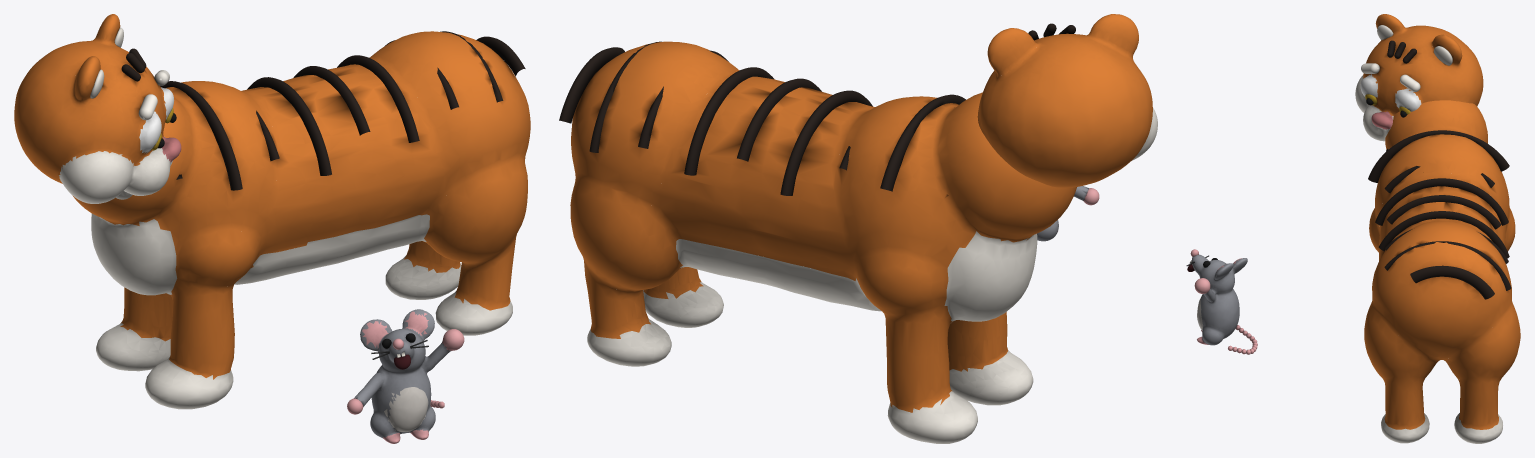
Rendered from har-du-tid-en-stund.glb.
The picture shows the model from 3 angles, left to right: view 1: azimuth 30°, elevation 25°; view 2: azimuth 150°, elevation 25°; view 3: azimuth 270°, elevation 25°; orthographic projection. The views are drawn at different scales.
Parts seen in each view (by area): view 1: tigre__r0, cabeca__r0, rato__r0, tigre__r4, tigre__r2, tigre__r6, tigre__r5, tigre__r9; view 2: tigre__r0, cabeca__r0, tigre__r4, tigre__r6, tigre__r2, tigre__r5, tigre__r9, tigre__r8, tigre__r7; view 3: tigre__r0, cabeca__r0, rato__r0, tigre__r4, tigre__r2, tigre__r6, tigre__r9, tigre__r5, tigre__r8, tigre__r3.
Part boxes in pixels (x1=…): tigre__r0: x1=72, y1=31, x2=530, y2=409; cabeca__r0: x1=14, y1=14, x2=181, y2=203; rato__r0: x1=354, y1=309, x2=464, y2=443; tigre__r4: x1=247, y1=77, x2=331, y2=175; tigre__r2: x1=160, y1=81, x2=242, y2=190; tigre__r6: x1=337, y1=55, x2=419, y2=142; tigre__r5: x1=293, y1=66, x2=370, y2=135; tigre__r9: x1=476, y1=36, x2=525, y2=76; tigre__r0: x1=570, y1=41, x2=1076, y2=443; cabeca__r0: x1=977, y1=14, x2=1157, y2=187; tigre__r4: x1=780, y1=90, x2=872, y2=195; tigre__r6: x1=684, y1=67, x2=774, y2=175; tigre__r2: x1=880, y1=94, x2=965, y2=191; tigre__r5: x1=737, y1=78, x2=821, y2=161; tigre__r9: x1=559, y1=47, x2=624, y2=123; tigre__r8: x1=589, y1=41, x2=661, y2=152; tigre__r7: x1=638, y1=50, x2=728, y2=148; tigre__r0: x1=1364, y1=100, x2=1520, y2=443; cabeca__r0: x1=1355, y1=14, x2=1483, y2=141; rato__r0: x1=1191, y1=254, x2=1247, y2=345; tigre__r4: x1=1375, y1=178, x2=1508, y2=225; tigre__r2: x1=1368, y1=130, x2=1509, y2=182; tigre__r6: x1=1378, y1=211, x2=1509, y2=258; tigre__r9: x1=1410, y1=265, x2=1494, y2=299; tigre__r5: x1=1387, y1=195, x2=1501, y2=229; tigre__r8: x1=1384, y1=241, x2=1511, y2=290; tigre__r3: x1=1384, y1=166, x2=1494, y2=193.
Bounding box in the file's own units: 2.31 × 1.66 × 1.77.
